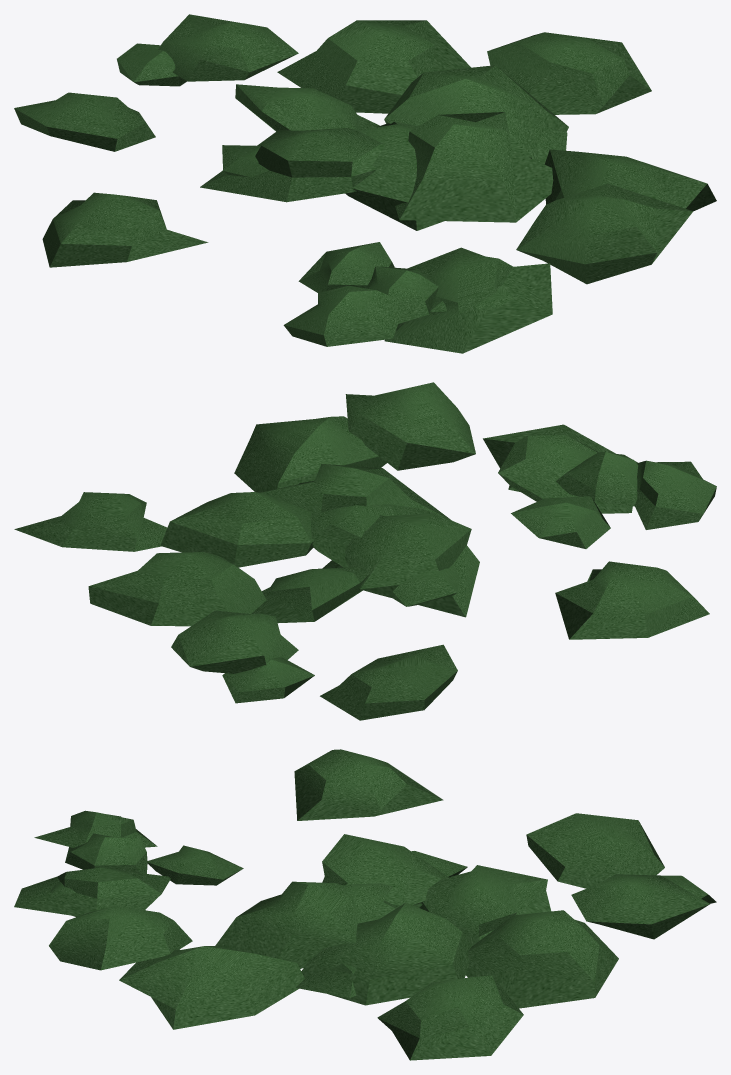
Rendered from brush_mat_6.glb.
3 renders of one model, top to bottom at view 1: azimuth 30°, elevation 25°; view 2: azimuth 150°, elevation 25°; view 3: azimuth 270°, elevation 25°, orthographic. The views are drawn at different scales.
Parts seen in each view (by area): view 1: brush_mat_6; view 2: brush_mat_6; view 3: brush_mat_6.
Boxes of the visible parts, x1,y1,x2,y2 form: brush_mat_6: [14, 14, 716, 353]; brush_mat_6: [14, 382, 716, 720]; brush_mat_6: [14, 749, 716, 1060].
Size of the model in its own units: 4.39 by 0.5547 by 4.45.
1 material, 1 textured.
